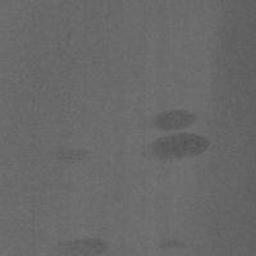Oil spot: (152, 110, 209, 158), (61, 238, 107, 256)
